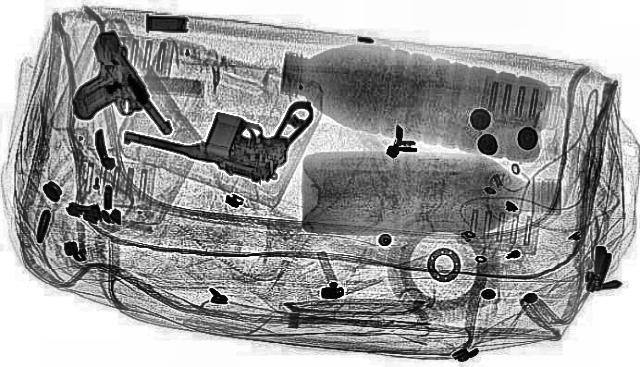Gun: (106, 65, 352, 189), (34, 28, 174, 144)
